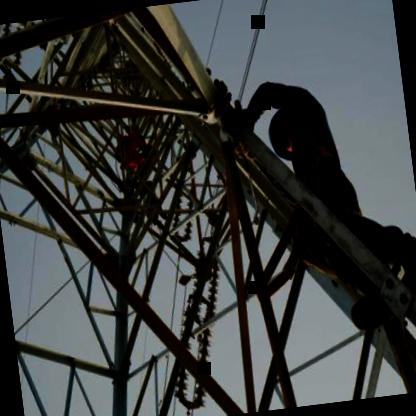helmet: (263, 102, 310, 160)
